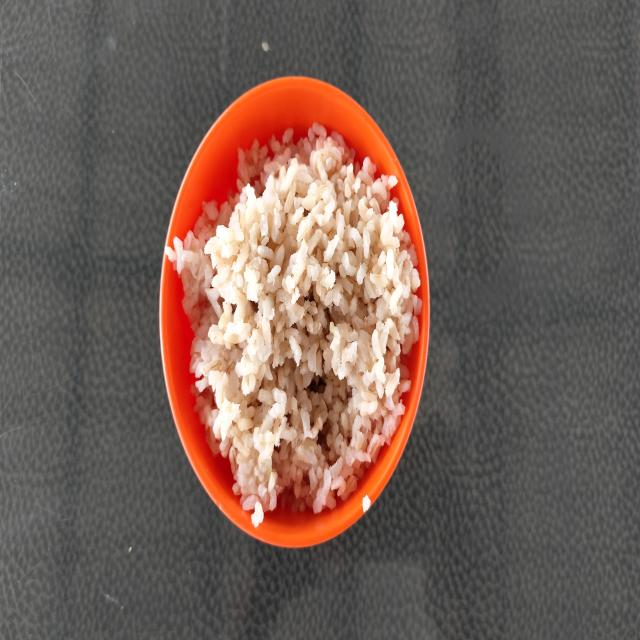brown-rice: (165, 124, 421, 525)
